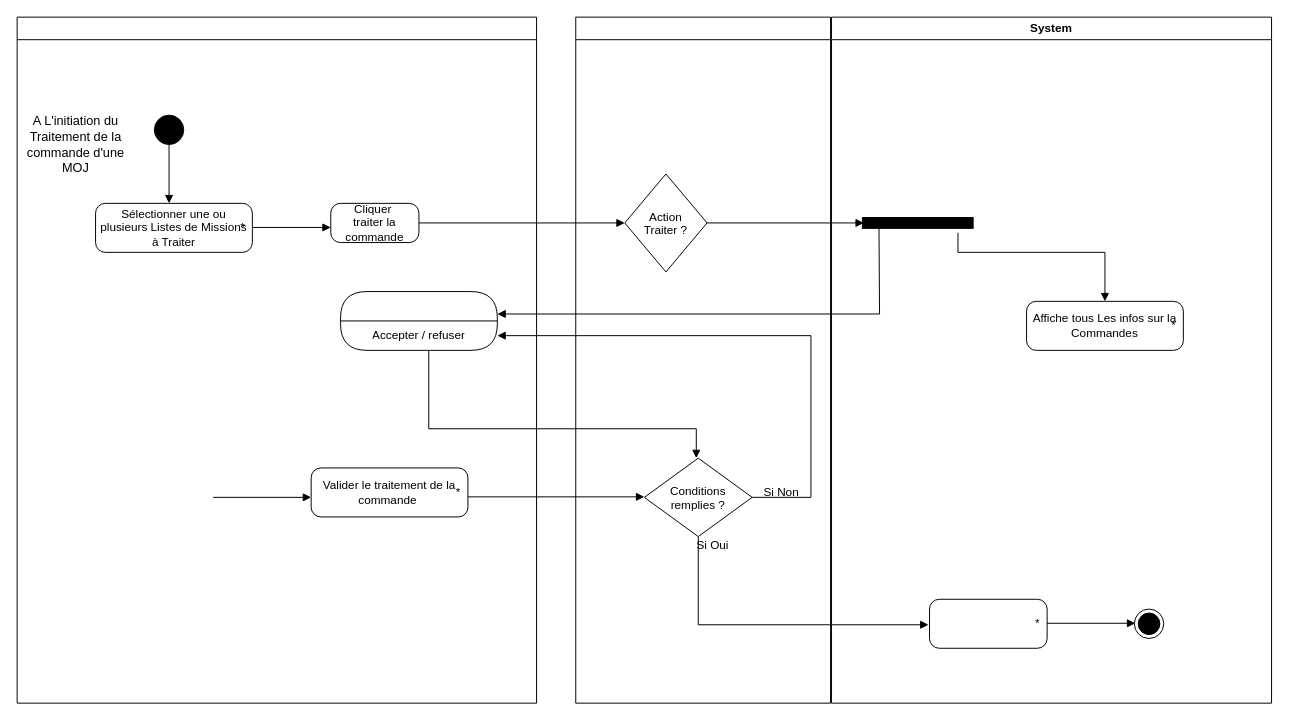
Image size: 1289x720. Some labels were removed from this diagram. Here are the shapes that lost their labels. From the top down, the box of each, then its label:
(340, 291, 497, 350): Selectionner le Traitement a éxecuter
(16, 16, 537, 703): UI
(575, 16, 831, 703): Control
(929, 598, 1047, 648): Commande traitée
